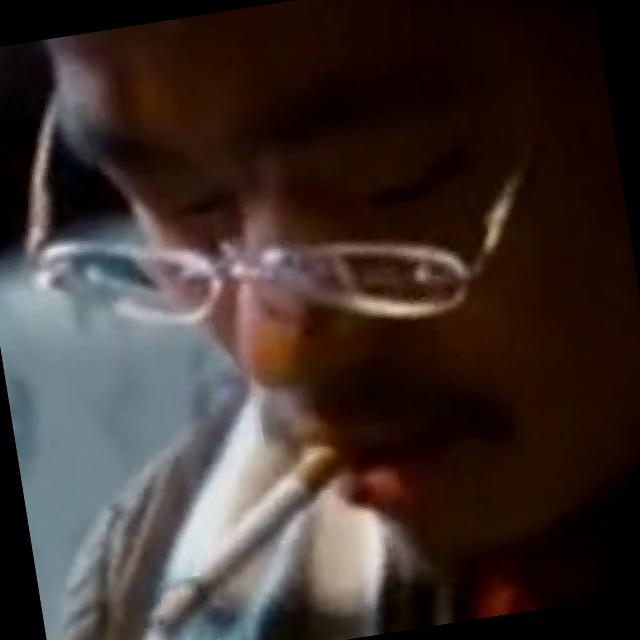smoke: (115, 438, 408, 640)
